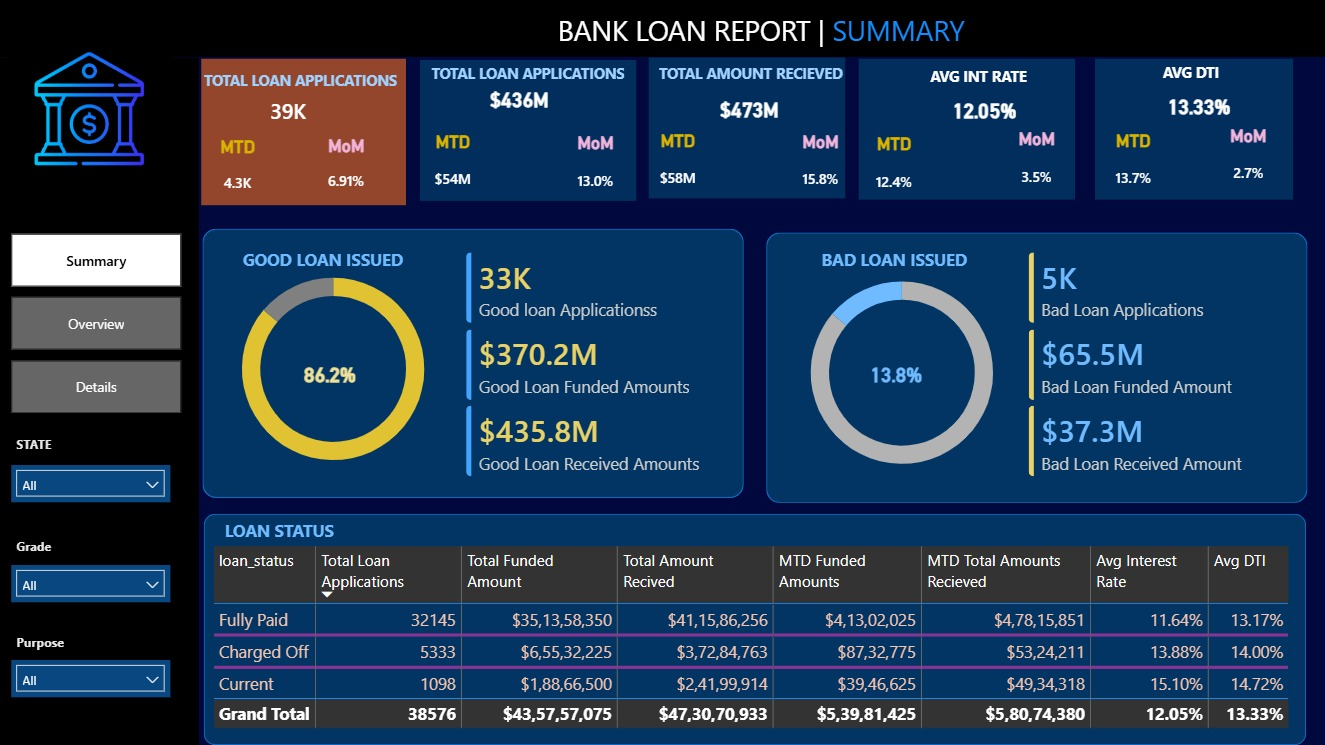

What the dashboard file says about the page in this screenshot:
{"tool":"powerbi","page":{"name":"Summary","canvas":[1280,720],"ordinal":0},"visuals":[{"type":"shape","box":[0,55.5,192,664.7],"z":0},{"type":"shape","box":[195,56.5,197.9,141.4],"z":0,"group":"g1"},{"type":"cardVisual","title":"MoM","fields":{"Data":["financial_loan.MoM Loan Application"]},"box":[274.3,129.9,120.8,67.2],"z":1000,"group":"g1"},{"type":"shape","box":[196,221.1,522.3,259.8],"z":1000},{"type":"shape","box":[0,0,1280.3,54.9],"z":2000},{"type":"textbox","box":[191.9,62.7,196.2,34.3],"z":2000,"group":"g1"},{"type":"cardVisual","title":"MTD","fields":{"Data":["financial_loan.MTD Total Amounts Recieved"]},"box":[581.6,124.8,145.5,70],"z":3000,"group":"g4"},{"type":"cardVisual","title":"MTD","fields":{"Data":["financial_loan.MTD Avg DTI"]},"box":[1035.6,125,117.2,70],"z":3000,"group":"g6"},{"type":"cardVisual","title":"MTD","fields":{"Data":["financial_loan.MTD Funded Amounts"]},"box":[364.8,126.5,145.5,70],"z":3000,"group":"g2"},{"type":"cardVisual","title":"MTD","fields":{"Data":["financial_loan.MTD Avg Int Rate"]},"box":[790.2,129,145.5,70],"z":3000,"group":"g5"},{"type":"cardVisual","title":"MTD","fields":{"Data":["financial_loan.MTD Loan Applications"]},"box":[153.5,131.3,152.3,67.2],"z":3000,"group":"g1"},{"type":"textbox","box":[228.7,234,204.5,32.3],"z":3000},{"type":"textbox","box":[533.8,5.5,485.8,49.4],"z":4000},{"type":"cardVisual","fields":{"Data":["financial_loan.Total Loan Applications"]},"box":[205.3,80.5,146.8,50.8],"z":4000,"group":"g1"},{"type":"shape","box":[405.2,57.9,208.7,136],"z":5000},{"type":"textbox","box":[1117.9,55.2,158,34.3],"z":5750,"group":"g6"},{"type":"textbox","box":[411.5,56.5,196.2,34.3],"z":5750,"group":"g2"},{"type":"textbox","box":[631.2,56.5,195.2,33.7],"z":5750,"group":"g4"},{"type":"textbox","box":[892.3,59.2,196.2,34.3],"z":5750,"group":"g5"},{"type":"textbox","box":[374.5,337.9,45.6,7.7],"z":5750,"group":"g3"},{"type":"cardVisual","fields":{"Data":["financial_loan.Total Funded Amount"]},"box":[444.4,63.4,196.2,63.1],"z":5812,"group":"g2"},{"type":"cardVisual","fields":{"Data":["financial_loan.Avg DTI"]},"box":[1098.6,71.1,175,63.3],"z":5812,"group":"g6"},{"type":"cardVisual","fields":{"Data":["financial_loan.Total Amount Recived"]},"box":[666.2,73.9,196.6,63.3],"z":5812,"group":"g4"},{"type":"cardVisual","fields":{"Data":["financial_loan.Avg Interest Rate"]},"box":[890.6,75.2,196.2,63.1],"z":5812,"group":"g5"},{"type":"group","id":"g1","title":"Group 1","box":[153.5,56.5,241,141.4],"z":6000},{"type":"cardVisual","title":"MoM","fields":{"Data":["financial_loan.MoM Avg DTI"]},"box":[1141.7,120.3,127.1,70],"z":6000,"group":"g6"},{"type":"cardVisual","title":"MoM","fields":{"Data":["financial_loan.MoM Avg Int Rate"]},"box":[922,124.3,157.8,70],"z":6000,"group":"g5"},{"type":"cardVisual","title":"MoM","fields":{"Data":["financial_loan.MoM Total Amounts Recieved"]},"box":[713.3,126.2,157.8,70],"z":6000,"group":"g4"},{"type":"cardVisual","title":"MoM","fields":{"Data":["financial_loan.MoM Total Funded Amounts"]},"box":[496.5,127.9,157.8,70],"z":6000,"group":"g2"},{"type":"group","id":"g2","title":"Group 2","box":[364.8,56.5,289.4,141.4],"z":7000},{"type":"cardVisual","fields":{"Data":["financial_loan.Good Loan %"]},"box":[263.6,334.9,110.3,52.5],"z":8000},{"type":"shape","box":[626,55.2,189.8,136],"z":9000},{"type":"shape","box":[829.3,56.5,208.7,136],"z":10000},{"type":"group","id":"g3","title":"Group 2","box":[374.5,337.9,45.6,7.7],"z":11000},{"type":"donutChart","fields":{"Category":["financial_loan.Good vs Bad Loab"],"Y":["financial_loan.Total Loan Applications"]},"box":[196.4,240.8,250.2,230],"z":12000},{"type":"shape","box":[1056.8,56.5,191.2,136],"z":13000},{"type":"group","id":"g4","title":"Group 2","box":[581.6,56.5,289.4,140],"z":14000},{"type":"group","id":"g5","title":"Group 2","box":[790.2,59.2,297.5,140],"z":15000},{"type":"group","id":"g6","title":"Group 2","box":[1035.6,55.2,240.3,139.8],"z":16000},{"type":"shape","box":[739.1,224.8,522.3,261.2],"z":17000},{"type":"cardVisual","fields":{"Data":["financial_loan.Good Loan Applications Test","financial_loan.Good Loan Funded Amounts","financial_loan.Good Loan Received Amounts"]},"box":[432.6,226.2,281.1,250.2],"z":18000},{"type":"donutChart","fields":{"Category":["financial_loan.Good vs Bad Loab"],"Y":["financial_loan.Total Loan Applications"]},"box":[745.2,244.8,250.2,230],"z":19000},{"type":"shape","box":[196.4,496.3,1064,223.3],"z":20000},{"type":"textbox","box":[788.2,234,204.5,32.3],"z":21000},{"type":"cardVisual","fields":{"Data":["financial_loan.Bad Loan %"]},"box":[811.1,334.9,122.4,52],"z":22000},{"type":"cardVisual","fields":{"Data":["financial_loan.Bad Loan Applications","financial_loan.Bad Loan Funded Amount","financial_loan.Bad Loan Received Amount"]},"box":[976.6,227.3,281.1,250.2],"z":23000},{"type":"tableEx","fields":{"Values":["financial_loan.loan_status","financial_loan.Total Loan Applications","financial_loan.Total Funded Amount","financial_loan.Total Amount Recived","financial_loan.MTD Funded Amounts","financial_loan.MTD Total Amounts Recieved","financial_loan.Avg Interest Rate","financial_loan.Avg DTI"]},"box":[200.4,521.9,1051.9,197.7],"z":24000},{"type":"textbox","box":[207.1,496.3,204.5,32.3],"z":25000},{"type":"slicer","fields":{"Values":["financial_loan.address_state"]},"box":[10.8,449.3,153.3,36.3],"z":26000},{"type":"textbox","box":[10.8,414.3,72.6,35],"z":27000},{"type":"textbox","box":[10.8,512.5,67.3,32.3],"z":28000},{"type":"textbox","box":[10.8,605.3,72.6,32.3],"z":29000},{"type":"slicer","fields":{"Values":["financial_loan.purpose"]},"box":[10.8,637.6,153.3,36.3],"z":30000},{"type":"slicer","fields":{"Values":["financial_loan.grade"]},"box":[10.8,544.8,153.3,36.3],"z":31000},{"type":"image","box":[6.7,18.8,157.4,180.2],"z":32000},{"type":"pageNavigator","box":[10.8,226,164.1,174.9],"z":33000}]}

Visuals, with their boxes in screenshot pixels (x1, y1, x2, y2), scaled from the page's 1280x720 canvas onto the 1325x745 screenshot:
shape: pyautogui.locateOnScreen(0, 57, 199, 744)
shape: pyautogui.locateOnScreen(202, 58, 407, 205)
"MoM" cardVisual: pyautogui.locateOnScreen(284, 134, 409, 204)
shape: pyautogui.locateOnScreen(203, 229, 744, 498)
shape: pyautogui.locateOnScreen(0, 0, 1324, 57)
textbox: pyautogui.locateOnScreen(199, 65, 402, 100)
"MTD" cardVisual: pyautogui.locateOnScreen(602, 129, 753, 202)
"MTD" cardVisual: pyautogui.locateOnScreen(1072, 129, 1193, 202)
"MTD" cardVisual: pyautogui.locateOnScreen(378, 131, 528, 203)
"MTD" cardVisual: pyautogui.locateOnScreen(818, 133, 969, 206)
"MTD" cardVisual: pyautogui.locateOnScreen(159, 136, 317, 205)
textbox: pyautogui.locateOnScreen(237, 242, 448, 276)
textbox: pyautogui.locateOnScreen(553, 6, 1055, 57)
cardVisual - financial_loan.Total Loan Applications: pyautogui.locateOnScreen(213, 83, 364, 136)
shape: pyautogui.locateOnScreen(419, 60, 635, 201)
textbox: pyautogui.locateOnScreen(1157, 57, 1321, 93)
textbox: pyautogui.locateOnScreen(426, 58, 629, 94)
textbox: pyautogui.locateOnScreen(653, 58, 855, 93)
textbox: pyautogui.locateOnScreen(924, 61, 1127, 97)
textbox: pyautogui.locateOnScreen(388, 350, 435, 358)
cardVisual - financial_loan.Total Funded Amount: pyautogui.locateOnScreen(460, 66, 663, 131)
cardVisual - financial_loan.Avg DTI: pyautogui.locateOnScreen(1137, 74, 1318, 139)
cardVisual - financial_loan.Total Amount Recived: pyautogui.locateOnScreen(690, 76, 893, 142)
cardVisual - financial_loan.Avg Interest Rate: pyautogui.locateOnScreen(922, 78, 1125, 143)
"Group 1" group: pyautogui.locateOnScreen(159, 58, 408, 205)
"MoM" cardVisual: pyautogui.locateOnScreen(1182, 124, 1313, 197)
"MoM" cardVisual: pyautogui.locateOnScreen(954, 129, 1118, 201)
"MoM" cardVisual: pyautogui.locateOnScreen(738, 131, 902, 203)
"MoM" cardVisual: pyautogui.locateOnScreen(514, 132, 677, 205)
"Group 2" group: pyautogui.locateOnScreen(378, 58, 677, 205)
cardVisual - financial_loan.Good Loan %: pyautogui.locateOnScreen(273, 347, 387, 401)
shape: pyautogui.locateOnScreen(648, 57, 844, 198)
shape: pyautogui.locateOnScreen(858, 58, 1074, 199)
"Group 2" group: pyautogui.locateOnScreen(388, 350, 435, 358)
donutChart - financial_loan.Good vs Bad Loab x financial_loan.Total Loan Applications: pyautogui.locateOnScreen(203, 249, 462, 487)
shape: pyautogui.locateOnScreen(1094, 58, 1292, 199)
"Group 2" group: pyautogui.locateOnScreen(602, 58, 902, 203)
"Group 2" group: pyautogui.locateOnScreen(818, 61, 1126, 206)
"Group 2" group: pyautogui.locateOnScreen(1072, 57, 1321, 202)
shape: pyautogui.locateOnScreen(765, 233, 1306, 503)
cardVisual - financial_loan.Good Loan Applications Test x financial_loan.Good Loan Funded Amounts: pyautogui.locateOnScreen(448, 234, 739, 493)
donutChart - financial_loan.Good vs Bad Loab x financial_loan.Total Loan Applications: pyautogui.locateOnScreen(771, 253, 1030, 491)
shape: pyautogui.locateOnScreen(203, 514, 1305, 744)
textbox: pyautogui.locateOnScreen(816, 242, 1028, 276)
cardVisual - financial_loan.Bad Loan %: pyautogui.locateOnScreen(840, 347, 966, 400)
cardVisual - financial_loan.Bad Loan Applications x financial_loan.Bad Loan Funded Amount: pyautogui.locateOnScreen(1011, 235, 1302, 494)
tableEx - financial_loan.loan_status x financial_loan.Total Loan Applications: pyautogui.locateOnScreen(207, 540, 1296, 744)
textbox: pyautogui.locateOnScreen(214, 514, 426, 547)
slicer - financial_loan.address_state: pyautogui.locateOnScreen(11, 465, 170, 502)
textbox: pyautogui.locateOnScreen(11, 429, 86, 465)
textbox: pyautogui.locateOnScreen(11, 530, 81, 564)
textbox: pyautogui.locateOnScreen(11, 626, 86, 660)
slicer - financial_loan.purpose: pyautogui.locateOnScreen(11, 660, 170, 697)
slicer - financial_loan.grade: pyautogui.locateOnScreen(11, 564, 170, 601)
image: pyautogui.locateOnScreen(7, 19, 170, 206)
pageNavigator: pyautogui.locateOnScreen(11, 234, 181, 415)
